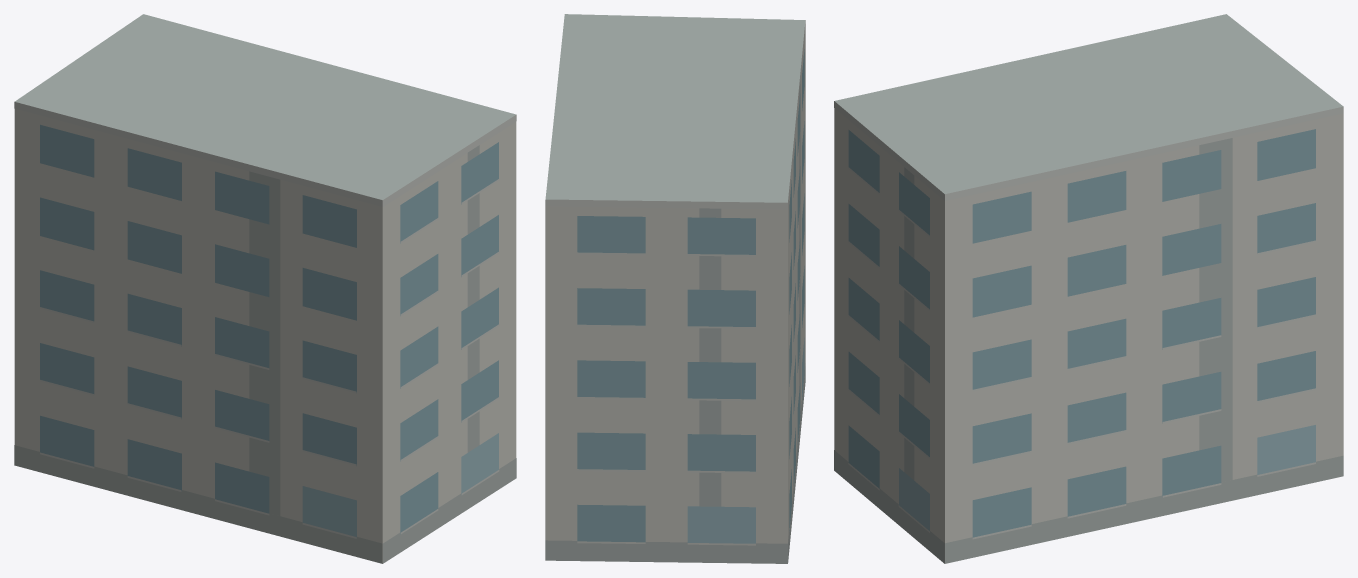
The model's file is survey-upis-33032207.glb.
3 renders of one model, left to right at view 1: azimuth 30°, elevation 25°; view 2: azimuth 150°, elevation 25°; view 3: azimuth 270°, elevation 25°, orthographic. The views are drawn at different scales.
Visible parts, largest first — view 1: survey-upis-33032207.tmp; view 2: survey-upis-33032207.tmp; view 3: survey-upis-33032207.tmp.
Part boxes in pixels (x1,y1,x2,y2): survey-upis-33032207.tmp: (14, 14, 516, 563); survey-upis-33032207.tmp: (545, 14, 805, 563); survey-upis-33032207.tmp: (834, 14, 1343, 563).
Size of the model in its own units: 13.6 by 13 by 16.25.
